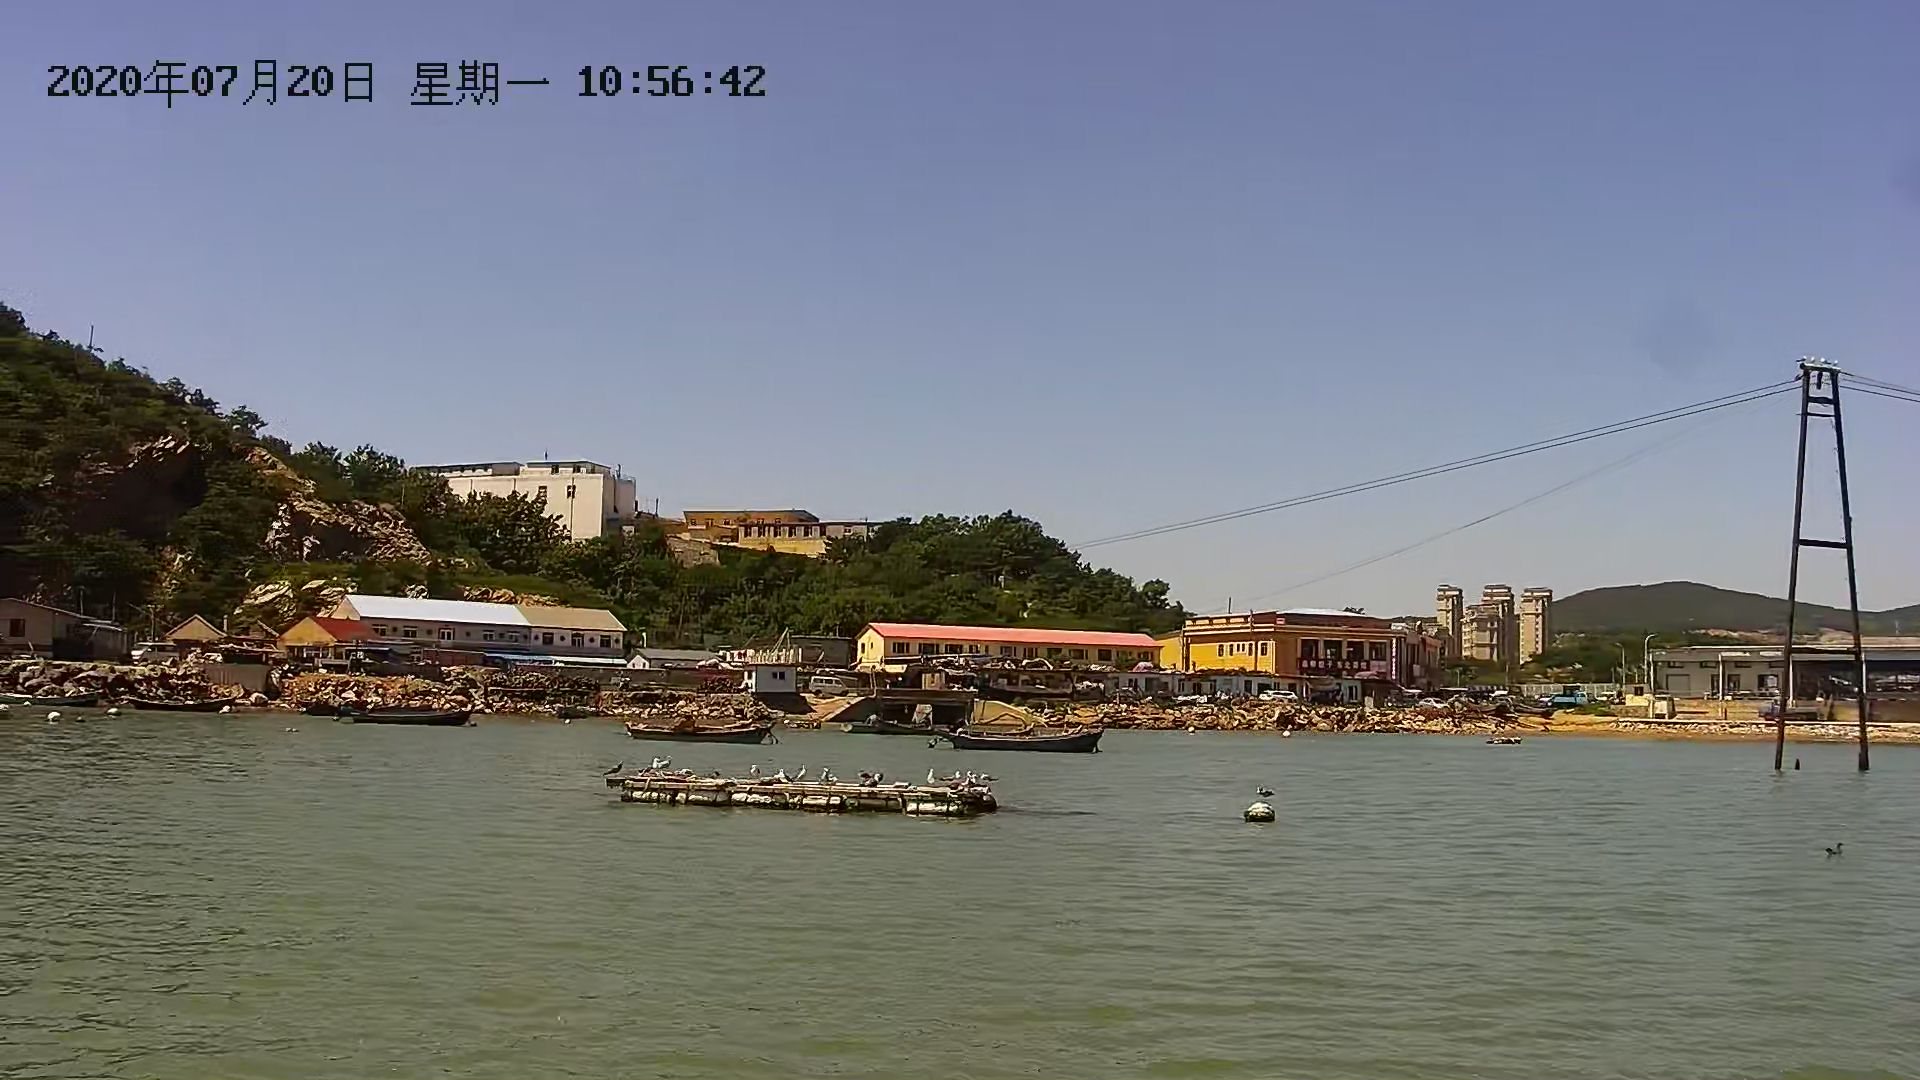animal: (1820, 836, 1851, 860), (1247, 785, 1287, 802)
ball: (1238, 794, 1280, 829)
boat: (945, 717, 1105, 758), (625, 711, 781, 748), (344, 698, 469, 735)
mast: (1776, 353, 1873, 775)
platform: (611, 752, 1000, 822)
